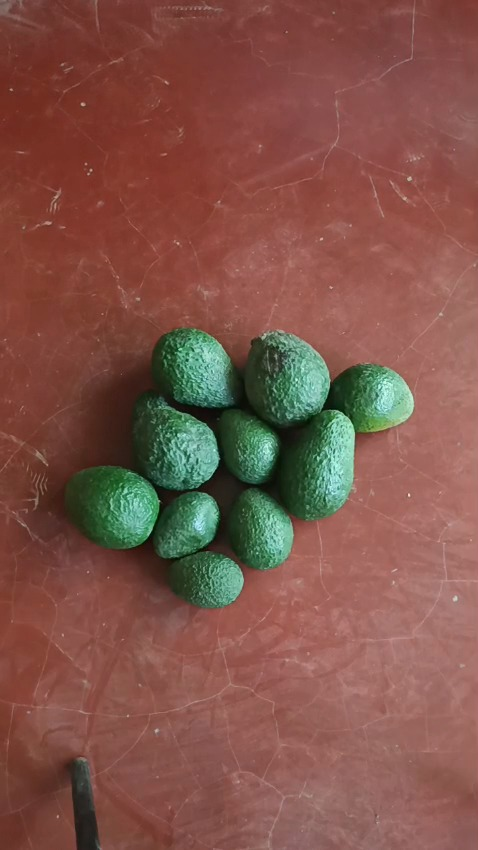Primera: (243, 328, 331, 427), (131, 393, 220, 490), (277, 410, 355, 519), (62, 464, 160, 549), (151, 327, 241, 409)
Segunda: (327, 362, 414, 433), (215, 407, 280, 484)
Tercera: (226, 488, 293, 569), (152, 490, 221, 560), (167, 550, 243, 607)
